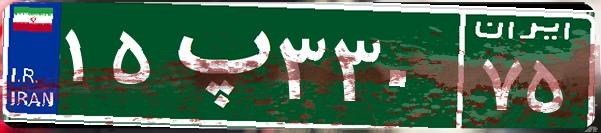0: (385, 28, 445, 110)
1: (57, 26, 110, 107)
3: (273, 28, 330, 110), (330, 28, 385, 110)
5: (110, 28, 158, 105), (525, 38, 570, 115)
7: (475, 38, 525, 113)
پ: (158, 15, 273, 115)
